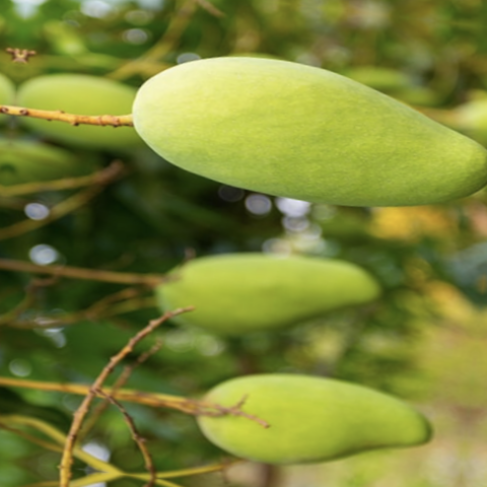mango: (111, 19, 487, 245), (142, 227, 402, 367), (183, 359, 444, 487)
